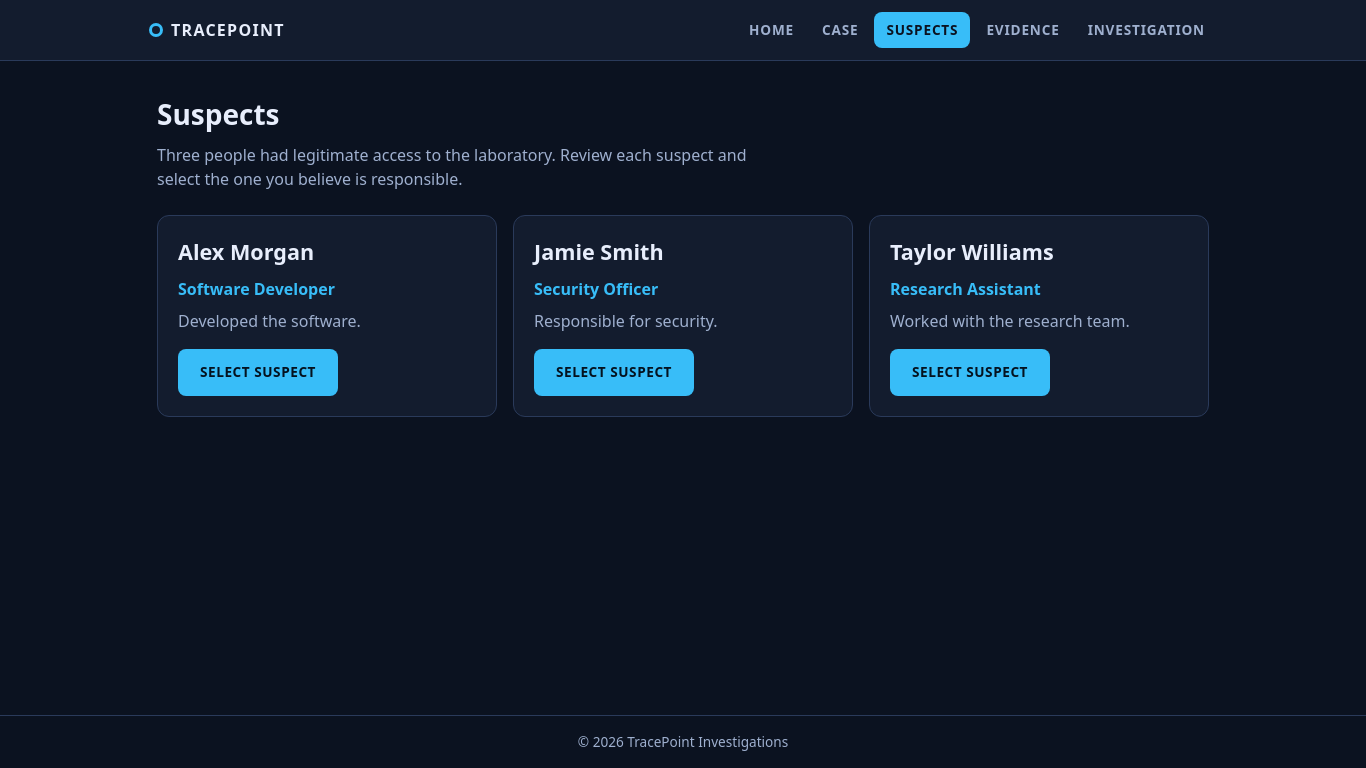
Scenario: Suspects page › stores the selected suspect in state and updates the interface
Expected: the heading "Jamie Smith" is shown, [534,237,664,266]
Expected: the text "selected suspect:" is not shown
Click the button "Select Suspect" below "Responsible for security.". click: (614, 372)
box: [534,349,694,396]
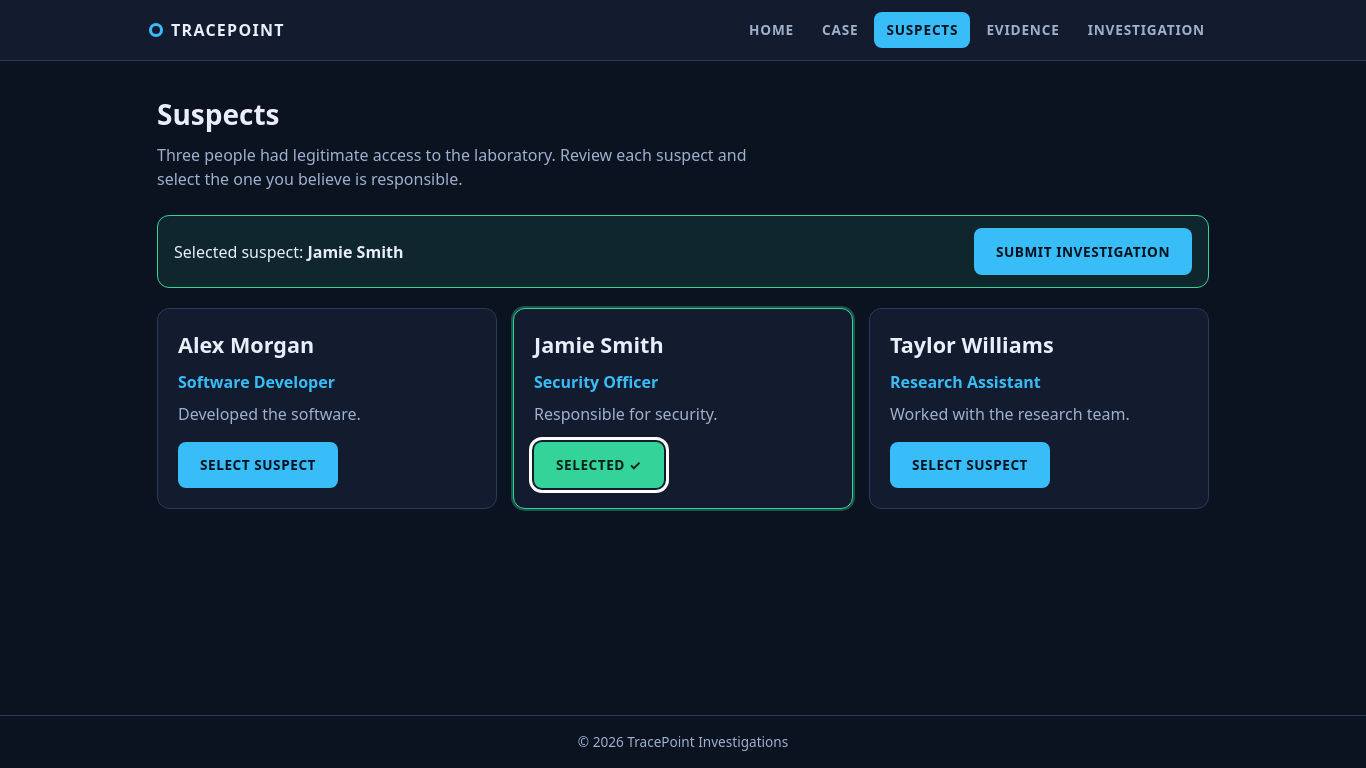
Expected: the number of buttons "Select Suspect" is 2, [178,442,338,488]; [890,442,1050,488]
Result: the text "Selected suspect: Jamie Smith" is shown at [174,240,404,264]
